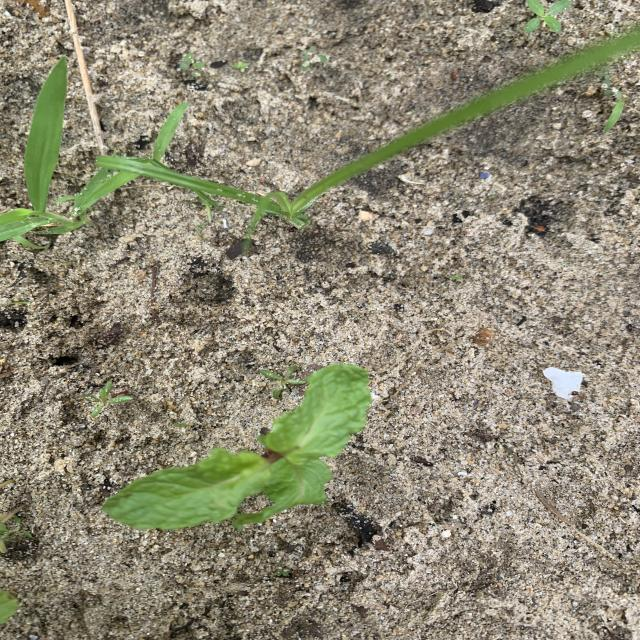crop: (108, 365, 371, 528)
weed: (97, 29, 640, 251), (0, 56, 83, 250), (85, 381, 131, 416), (524, 0, 571, 33), (261, 365, 303, 398), (1, 512, 32, 552), (604, 94, 624, 133), (300, 45, 327, 71), (178, 53, 204, 78), (600, 72, 612, 94), (233, 61, 247, 73)
